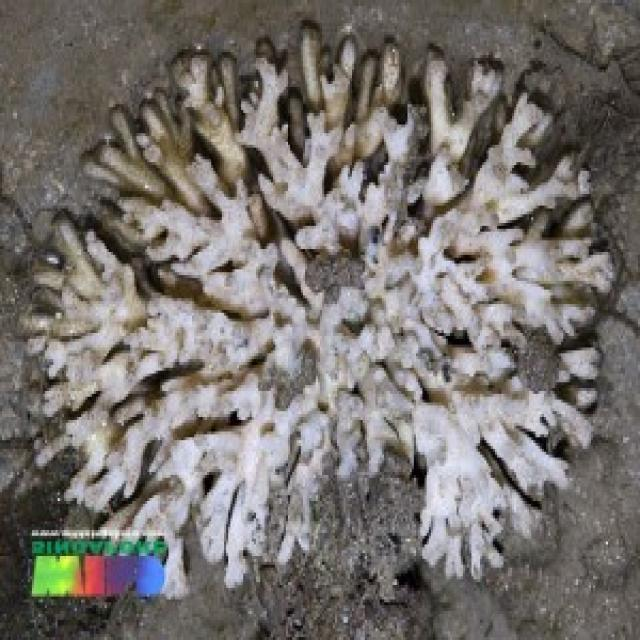Bleached: (46, 48, 611, 583)
